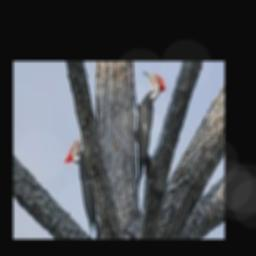Woodpecker: (132, 71, 165, 189), (64, 128, 98, 234)
